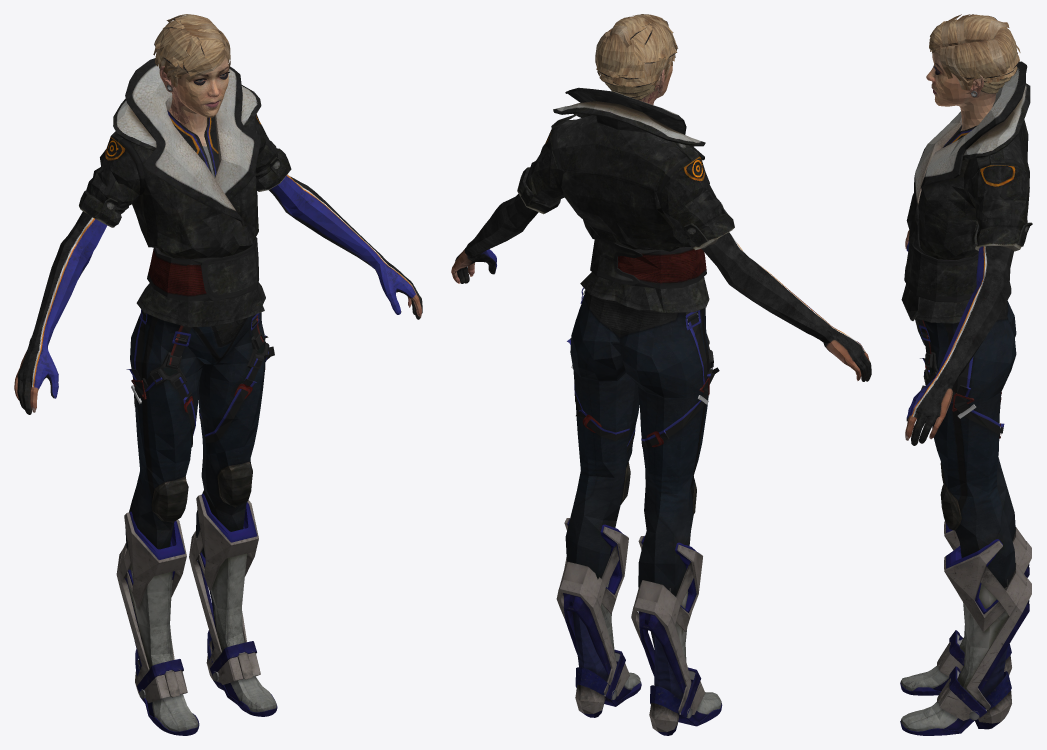
The model's file is olga.obj.
3 renders of one model, left to right at view 1: azimuth 30°, elevation 25°; view 2: azimuth 150°, elevation 25°; view 3: azimuth 270°, elevation 25°, orthographic. The views are drawn at different scales.
Parts seen in each view (by area): view 1: 3f167890_obj, 3f3900b0_obj, 3f1fdc58_obj; view 2: 3f167890_obj, 3f3900b0_obj; view 3: 3f167890_obj, 3f3900b0_obj, 3f1fdc58_obj.
Part boxes in pixels (box(x1,y1,x2,y2)): 3f167890_obj: box(14, 58, 422, 735); 3f3900b0_obj: box(153, 14, 230, 86); 3f1fdc58_obj: box(159, 52, 228, 146); 3f167890_obj: box(451, 86, 871, 735); 3f3900b0_obj: box(595, 14, 677, 100); 3f167890_obj: box(900, 61, 1032, 735); 3f3900b0_obj: box(929, 14, 1020, 93); 3f1fdc58_obj: box(926, 50, 996, 131).
Bounding box in the file's own units: 3.06 × 4.98 × 0.8683.
3 materials, 3 textured.
